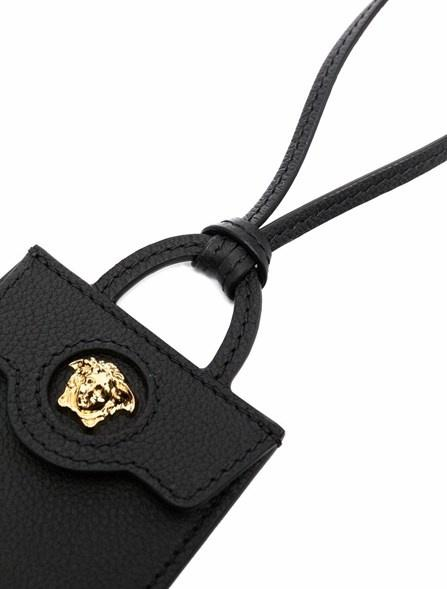VERSACE: (33, 336, 162, 448)
